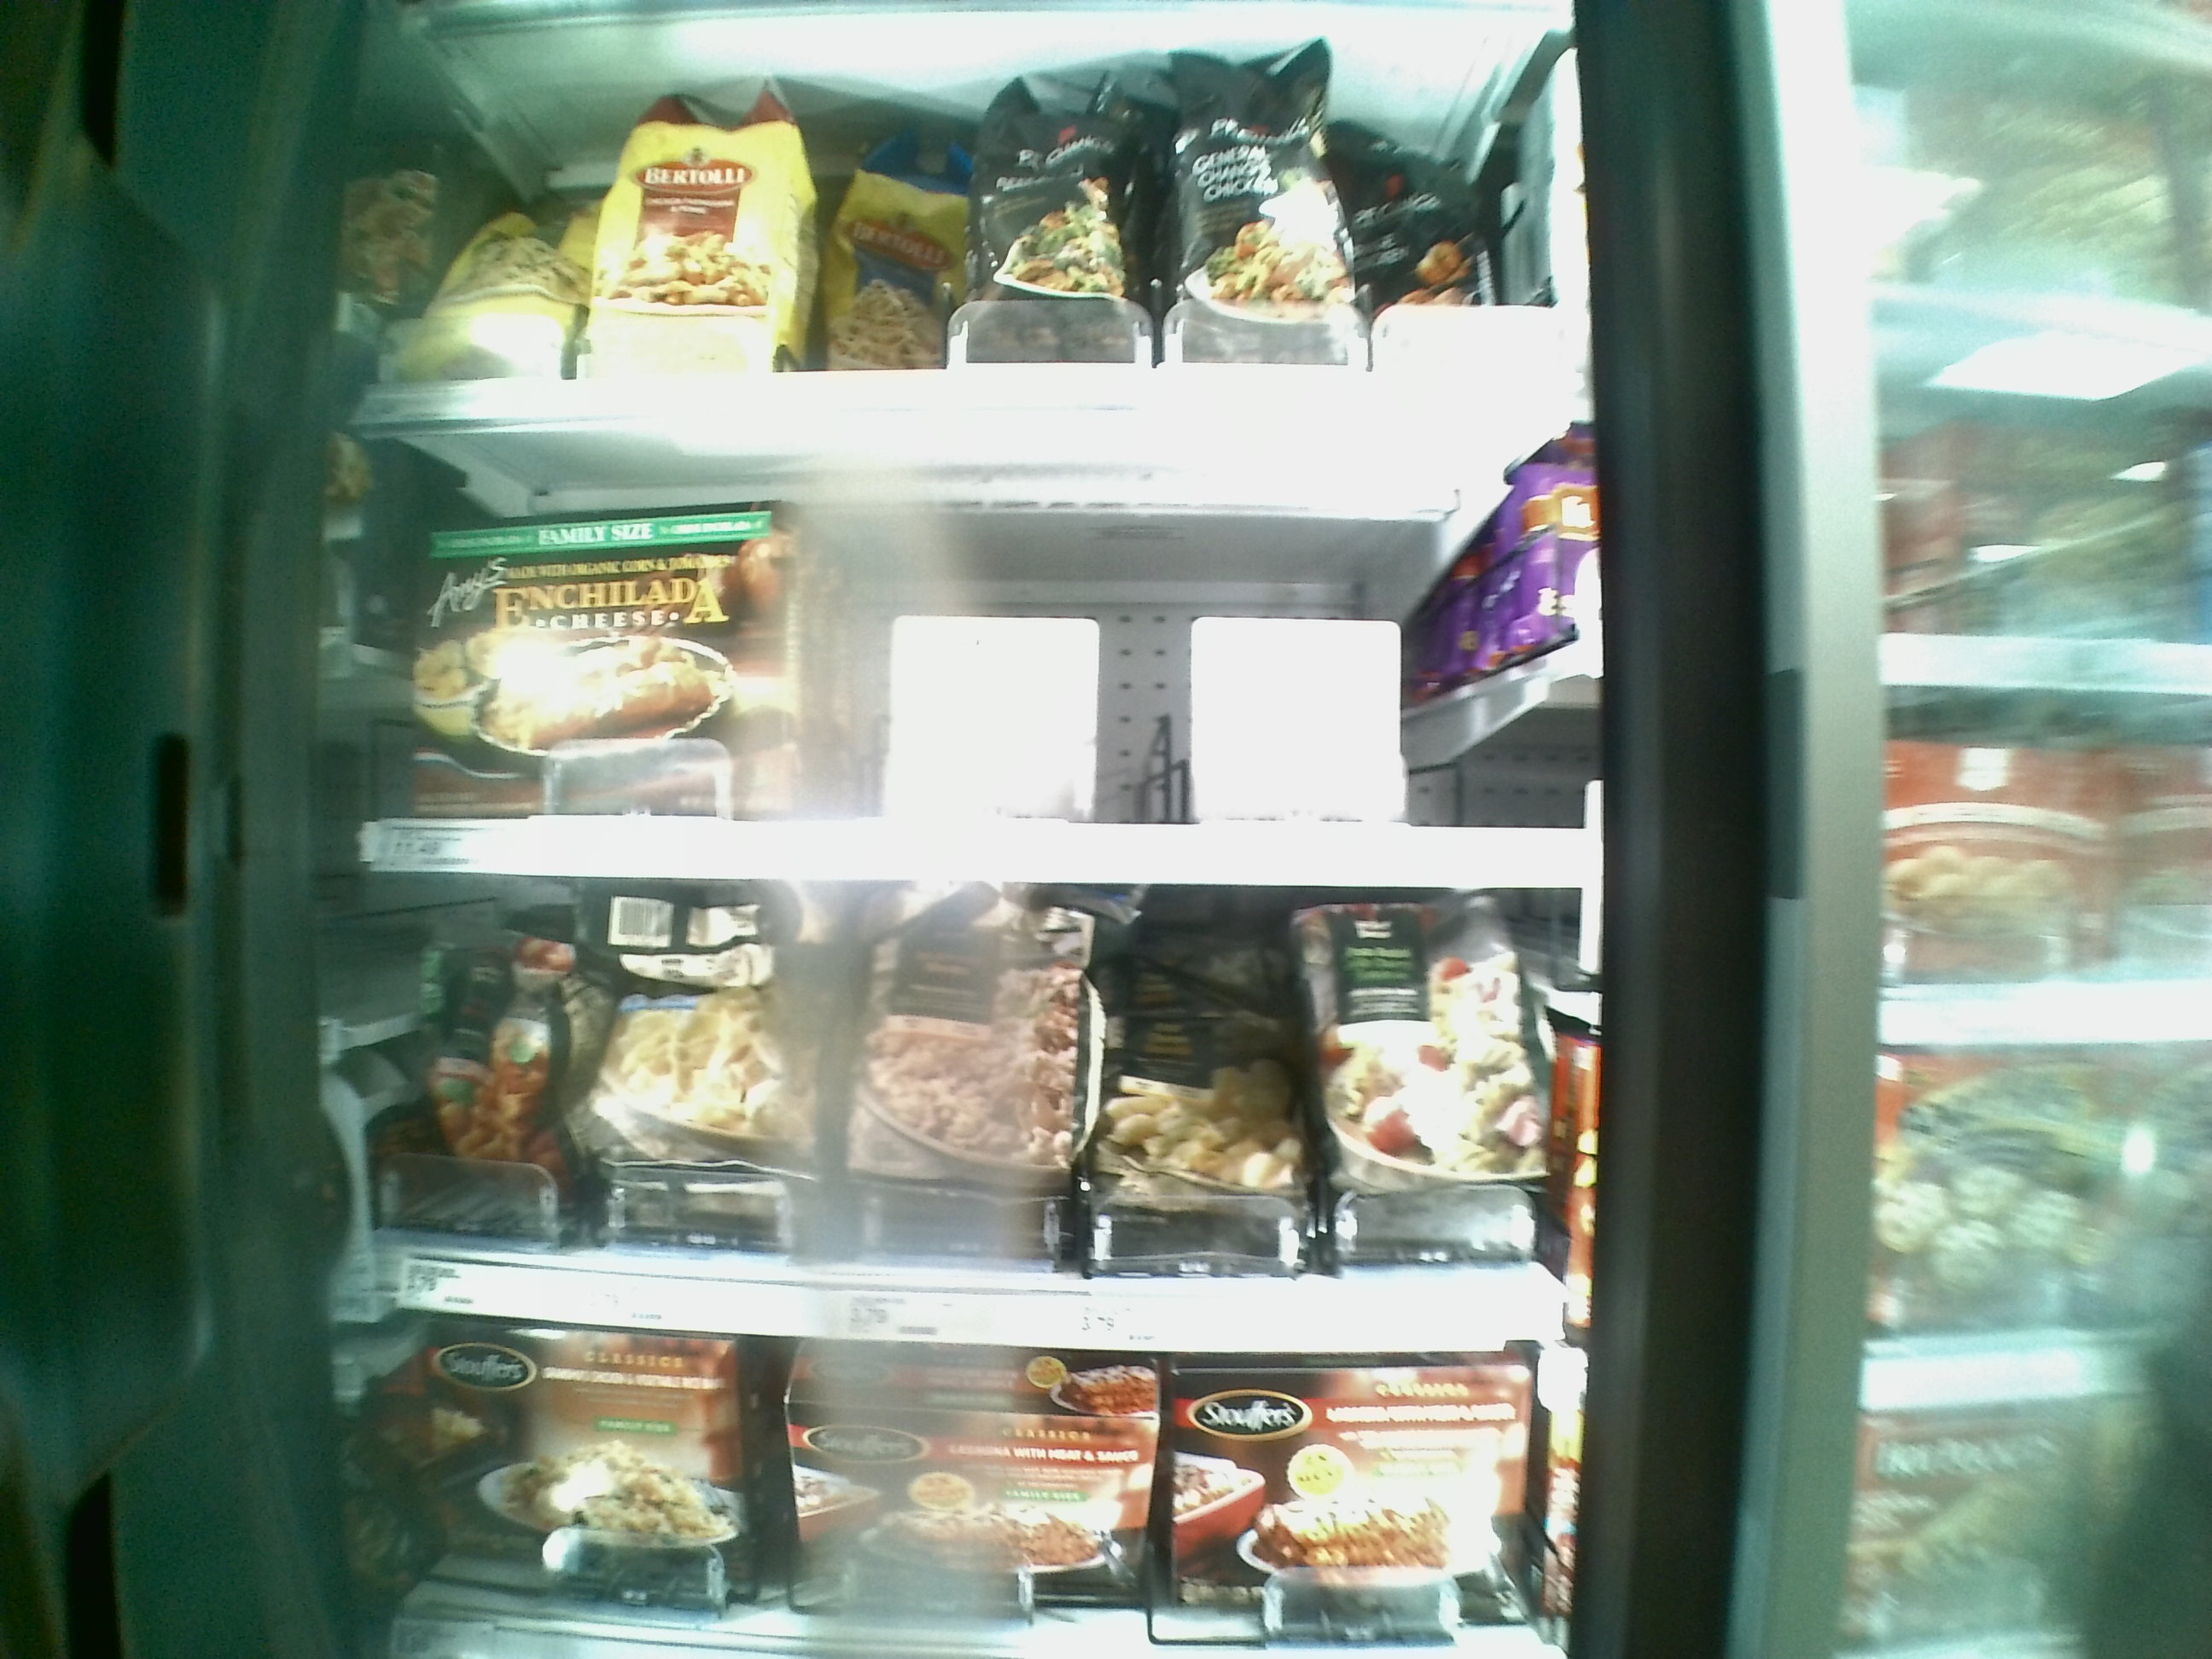shelf: (376, 880, 1578, 1349), (362, 448, 1594, 903), (362, 31, 1568, 450)
